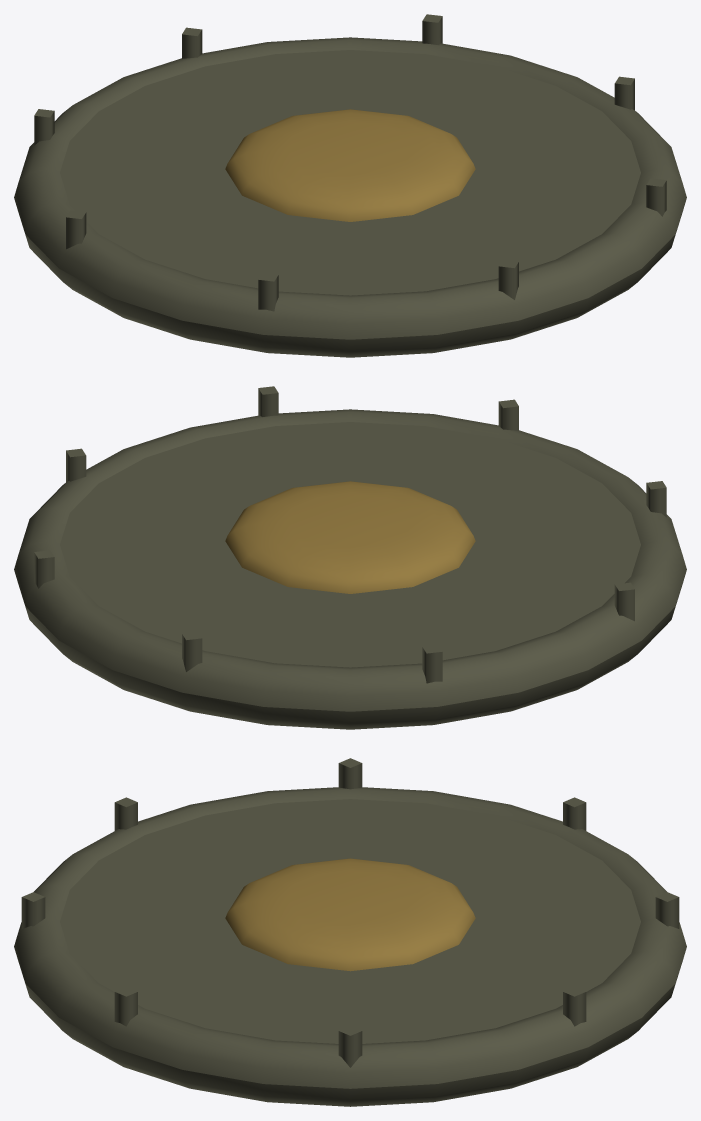
Rendered from copper_coin.obj.
The picture shows the model from 3 angles, top to bottom: view 1: azimuth 30°, elevation 25°; view 2: azimuth 150°, elevation 25°; view 3: azimuth 270°, elevation 25°; orthographic projection.
Parts seen in each view (by area): view 1: copper_coin; view 2: copper_coin; view 3: copper_coin.
Part boxes in pixels (bbox=[...]): copper_coin: bbox=[14, 14, 686, 357]; copper_coin: bbox=[14, 386, 686, 729]; copper_coin: bbox=[14, 758, 686, 1106].
Bounding box in the file's own units: 1.72 × 0.22 × 1.72.
